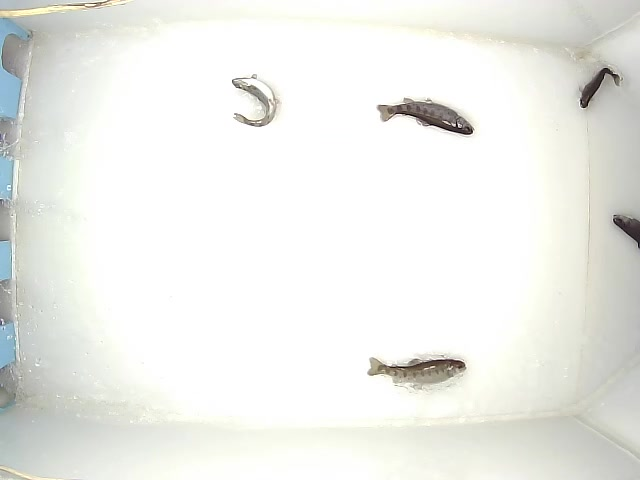fish: (376, 97, 474, 135), (367, 357, 467, 385), (232, 74, 279, 127), (579, 67, 621, 109)
